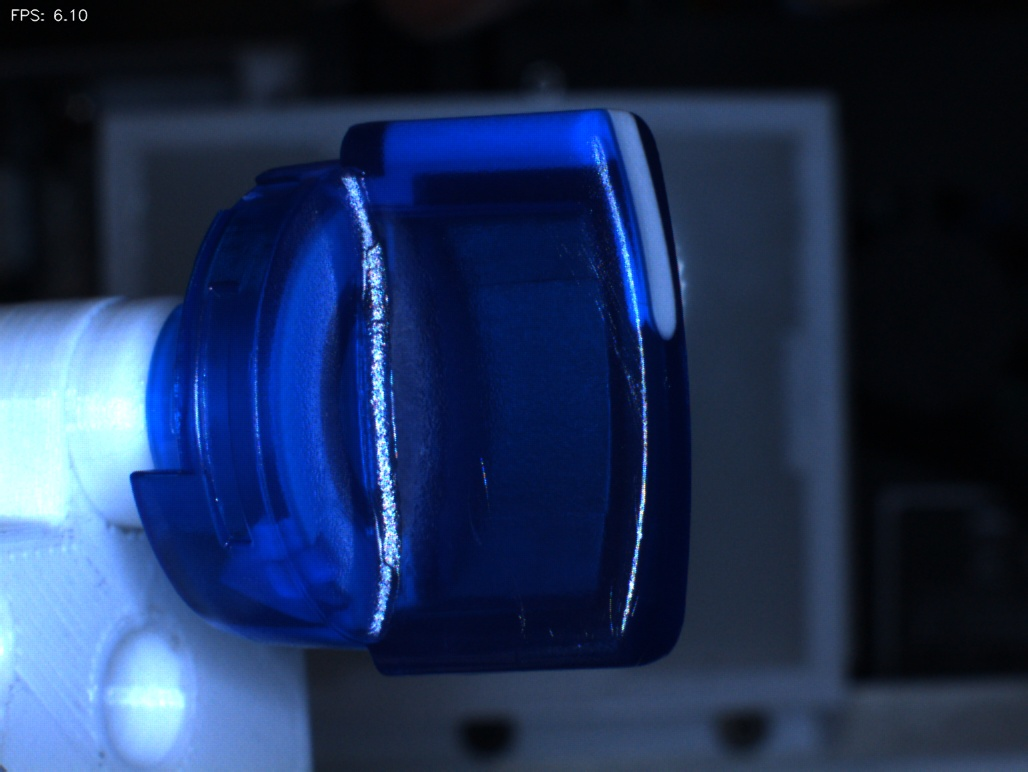Givrage: (449, 445, 565, 654), (561, 219, 644, 403)
